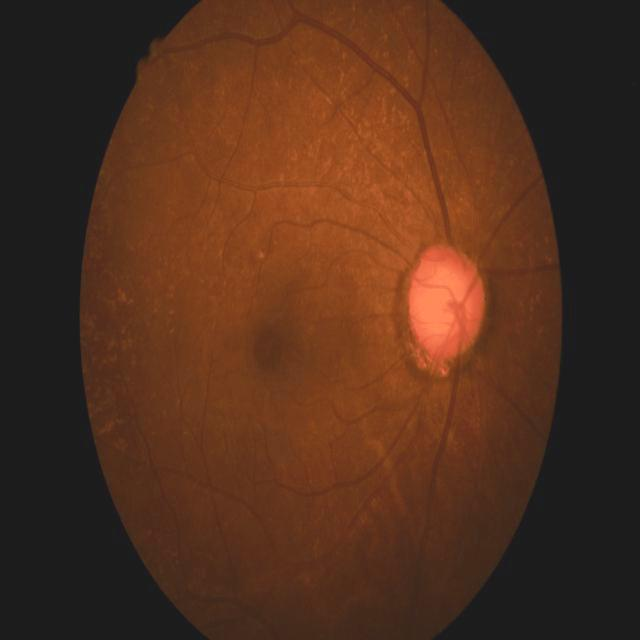cup: (426, 268, 470, 340)
disk: (411, 244, 484, 363)
